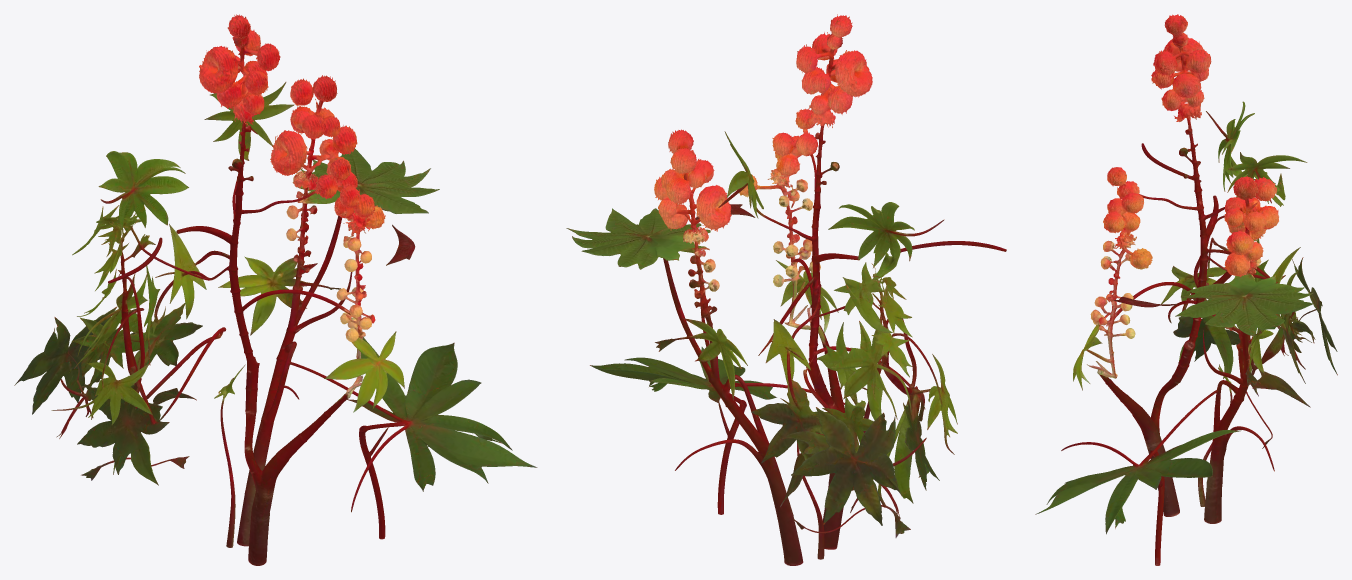
File: castor.glb
3 renders of one model, left to right at view 1: azimuth 30°, elevation 25°; view 2: azimuth 150°, elevation 25°; view 3: azimuth 270°, elevation 25°, orthographic. The views are drawn at different scales.
Visible parts, largest first — view 1: mesh_node; view 2: mesh_node; view 3: mesh_node.
Boxes of the visible parts, x1,y1,x2,y2 form: mesh_node: [14, 14, 537, 565]; mesh_node: [566, 14, 1006, 565]; mesh_node: [1035, 14, 1337, 565].
Bounding box in the file's own units: 1.4 × 1.89 × 1.05.
1 material, 1 textured.
